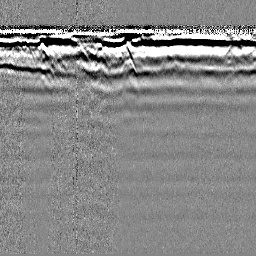cavity: (119, 56, 137, 75)
